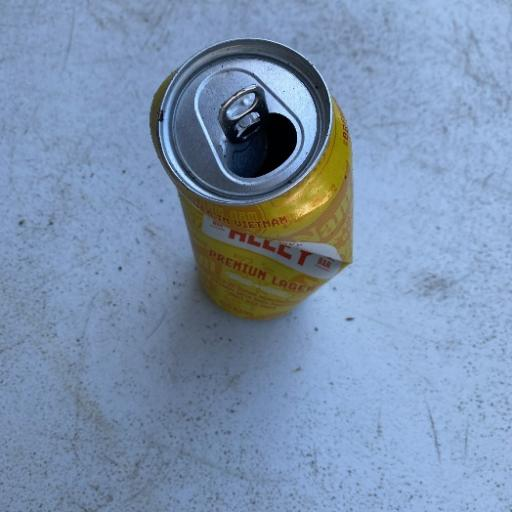Metal: (146, 35, 356, 323)
